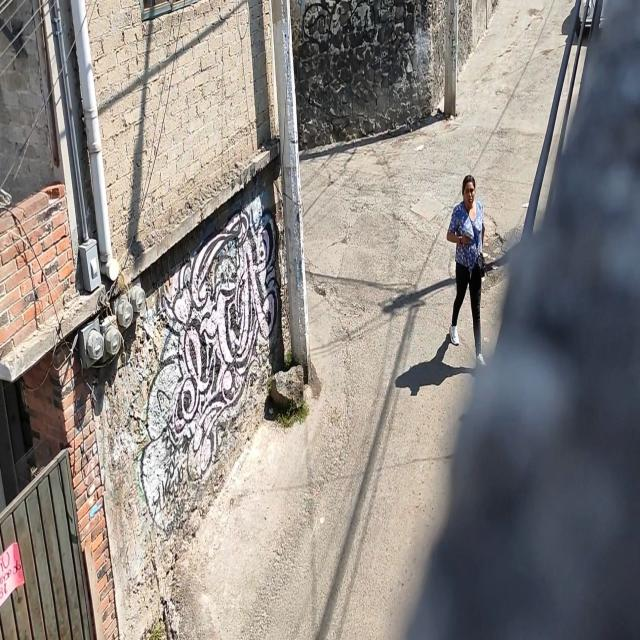adult: (445, 167, 492, 380)
